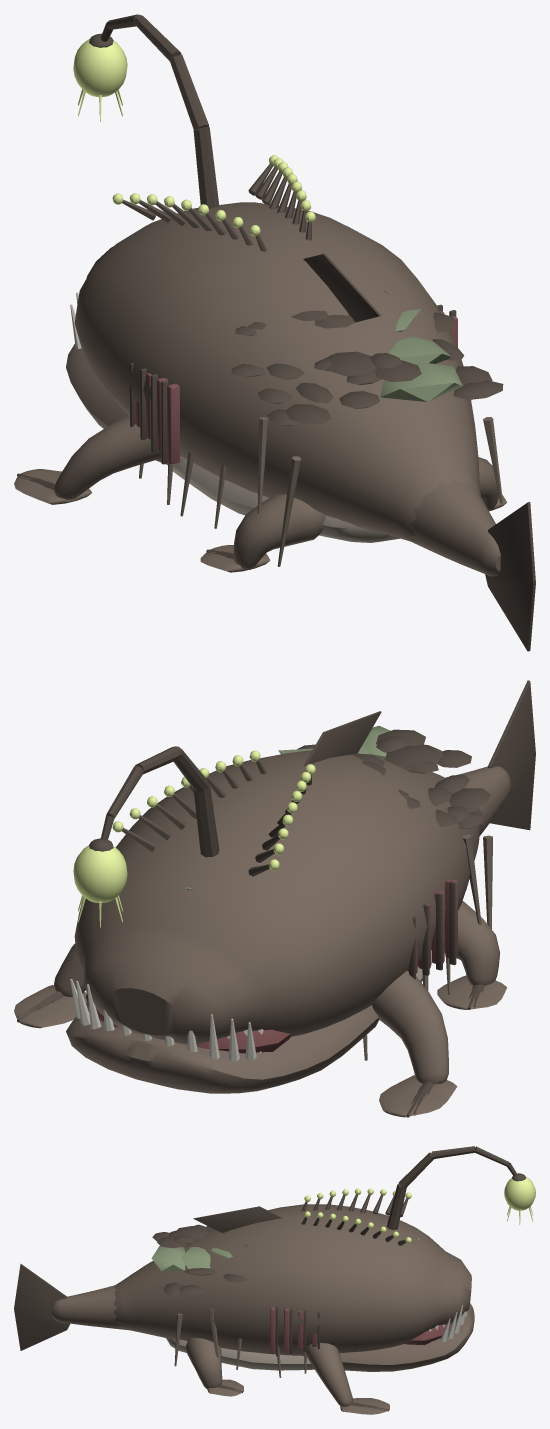
Rendered from sea_queen.gltf.
The picture shows the model from 3 angles, top to bottom: view 1: azimuth 30°, elevation 25°; view 2: azimuth 150°, elevation 25°; view 3: azimuth 270°, elevation 25°; orthographic projection. The views are drawn at different scales.
Parts seen in each view (by area): view 1: Body, Tail, FinL1, Crown, FinL2, LureStalk, GillL, LureBulb, Jaw, FinR2; view 2: Body, Jaw, FinL1, Tail, FinL2, Crown, LureStalk, LureBulb, FinR1, GillL; view 3: Body, Tail, Jaw, FinR1, FinR2, Crown, LureStalk, GillR, LureBulb.
Boxes of the visible parts, bbox=[...] form: Body: bbox=[74, 202, 503, 566]; Tail: bbox=[407, 480, 535, 651]; FinL1: bbox=[14, 415, 161, 504]; Crown: bbox=[112, 155, 315, 251]; FinL2: bbox=[200, 494, 325, 572]; LureStalk: bbox=[100, 14, 219, 208]; GillL: bbox=[130, 363, 179, 464]; LureBulb: bbox=[73, 33, 127, 121]; Jaw: bbox=[66, 292, 167, 464]; FinR2: bbox=[478, 457, 506, 511]; Body: bbox=[74, 711, 492, 1060]; Jaw: bbox=[66, 979, 378, 1093]; FinL1: bbox=[372, 970, 457, 1117]; Tail: bbox=[445, 680, 535, 836]; FinL2: bbox=[437, 901, 506, 1009]; Crown: bbox=[112, 750, 315, 876]; LureStalk: bbox=[100, 746, 219, 857]; LureBulb: bbox=[73, 838, 127, 927]; FinR1: bbox=[14, 943, 87, 1028]; GillL: bbox=[407, 879, 457, 979]; Body: bbox=[113, 1204, 471, 1377]; Tail: bbox=[14, 1264, 129, 1350]; Jaw: bbox=[339, 1303, 474, 1371]; FinR1: bbox=[304, 1342, 389, 1414]; FinR2: bbox=[185, 1337, 243, 1396]; Crown: bbox=[301, 1188, 411, 1245]; LureStalk: bbox=[387, 1146, 517, 1229]; GillR: bbox=[270, 1307, 319, 1356]; LureBulb: bbox=[504, 1173, 535, 1224].
Size of the model in its own units: 8.6 by 6.99 by 15.73.
